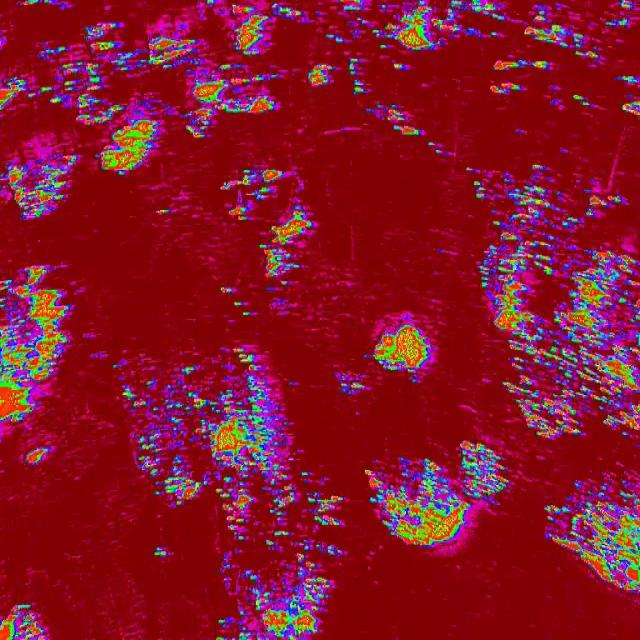fire: (474, 164, 640, 440), (111, 342, 292, 522), (366, 439, 512, 546), (214, 524, 340, 640), (0, 264, 75, 426), (544, 472, 640, 598), (218, 166, 312, 283), (184, 59, 280, 142), (371, 0, 510, 51), (41, 59, 126, 130), (0, 152, 76, 218), (370, 322, 434, 386), (100, 118, 165, 178), (118, 36, 202, 73), (225, 0, 273, 59), (524, 23, 602, 59), (300, 469, 344, 525), (0, 600, 54, 640), (0, 75, 38, 110), (383, 102, 420, 136), (333, 369, 368, 398), (85, 18, 116, 50), (306, 60, 338, 90), (489, 58, 552, 73), (346, 56, 366, 96), (270, 0, 307, 21), (36, 40, 67, 59), (615, 69, 640, 89), (426, 137, 446, 162), (532, 4, 556, 24), (621, 96, 640, 120), (26, 447, 50, 464), (490, 80, 519, 94), (571, 92, 590, 109), (606, 15, 628, 29), (324, 31, 346, 45), (339, 0, 366, 11), (615, 0, 636, 11), (154, 206, 172, 218), (392, 62, 412, 72), (154, 544, 168, 558), (357, 16, 369, 32), (18, 0, 56, 5), (220, 286, 234, 296), (241, 308, 255, 318), (374, 101, 382, 112), (92, 150, 99, 162), (206, 0, 218, 5), (467, 164, 472, 173), (234, 302, 243, 306)
